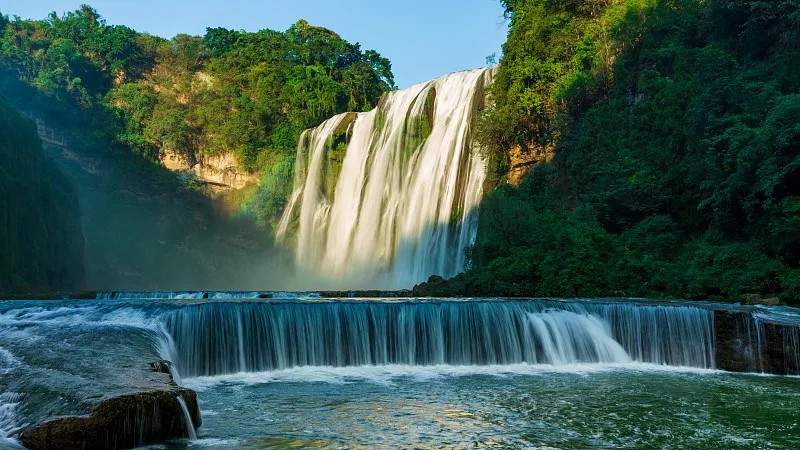Huangguoshu: (278, 68, 488, 290)
